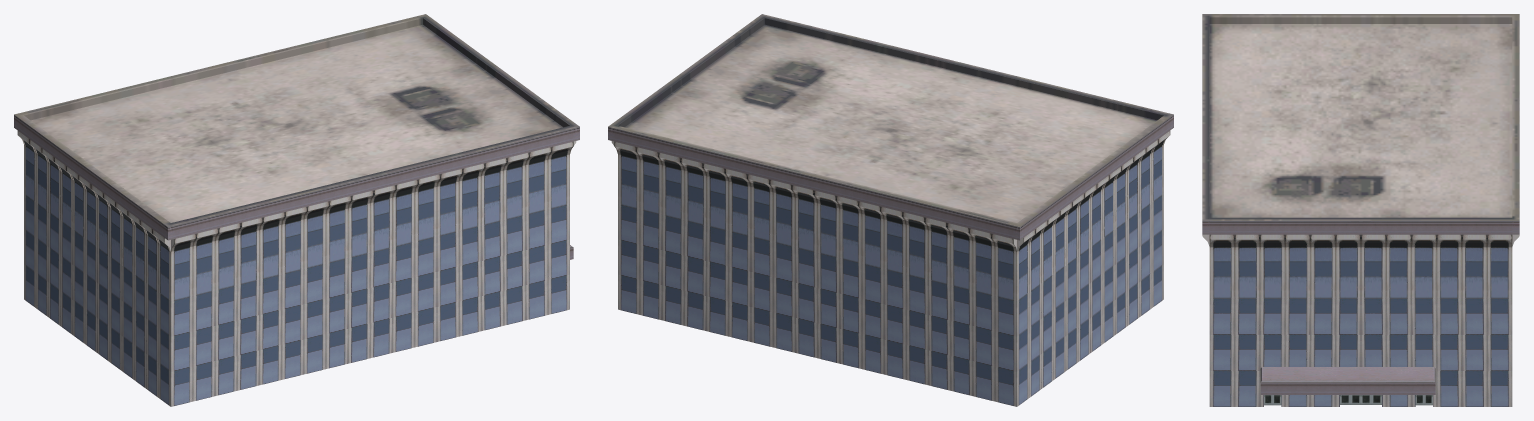
The model's file is vgn_corpbuild2.obj.
3 renders of one model, left to right at view 1: azimuth 30°, elevation 25°; view 2: azimuth 150°, elevation 25°; view 3: azimuth 270°, elevation 25°, orthographic. The views are drawn at different scales.
Parts seen in each view (by area): view 1: vgn_corpbuild2; view 2: vgn_corpbuild2; view 3: vgn_corpbuild2.
Part boxes in pixels (bbox=[...]): vgn_corpbuild2: bbox=[14, 14, 579, 406]; vgn_corpbuild2: bbox=[608, 14, 1173, 406]; vgn_corpbuild2: bbox=[1202, 14, 1519, 406].
Size of the model in its own units: 43.71 by 17.71 by 26.89.
5 materials, 5 textured.
